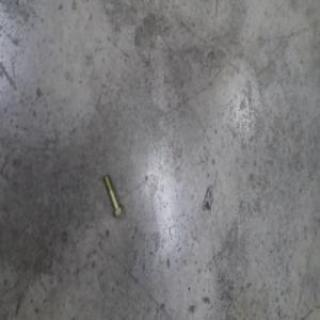Bolttrack_idkeyframe: (102, 172, 123, 218)
